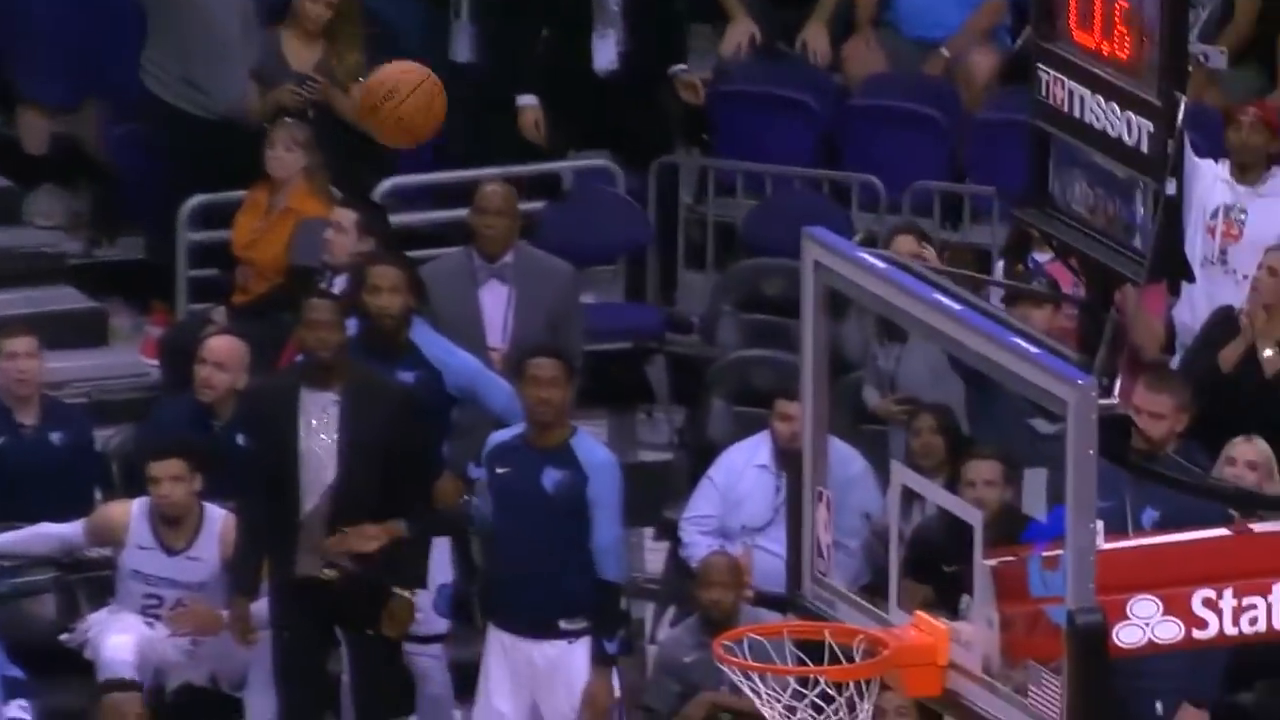ball: (351, 57, 451, 152)
